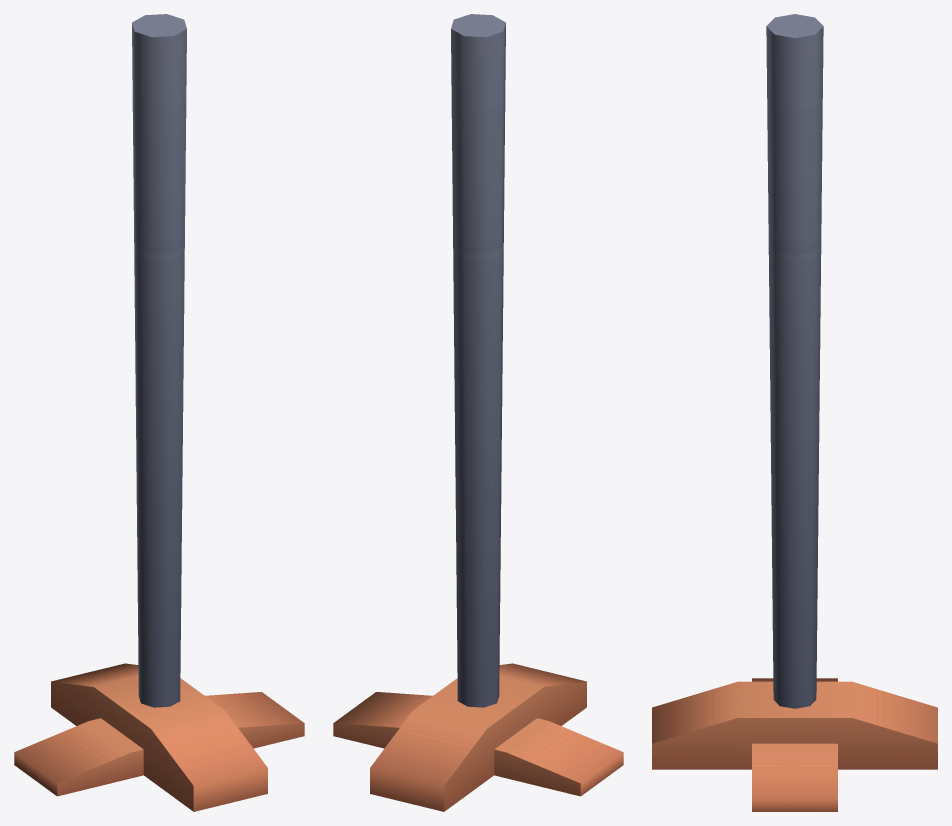
Rendered from festivus-pole.glb.
3 renders of one model, left to right at view 1: azimuth 30°, elevation 25°; view 2: azimuth 150°, elevation 25°; view 3: azimuth 270°, elevation 25°, orthographic.
Visible parts, largest first — view 1: festivus-pole; view 2: festivus-pole; view 3: festivus-pole.
Boxes of the visible parts, x1,y1,x2,y2 form: festivus-pole: (14,14,304,811); festivus-pole: (333,14,623,811); festivus-pole: (652,14,937,811).
Size of the model in its own units: 0.5 by 1.4 by 0.5.
1 material, 1 textured.
